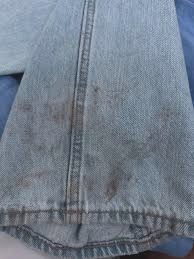earth: (45, 98, 88, 127), (81, 174, 120, 197), (17, 176, 30, 188)
